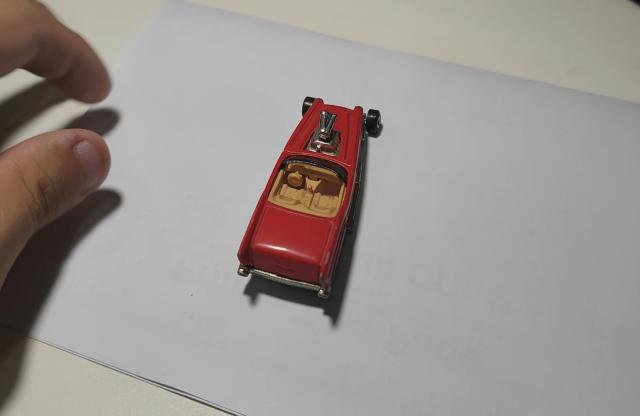03_V8: (236, 98, 384, 321)
